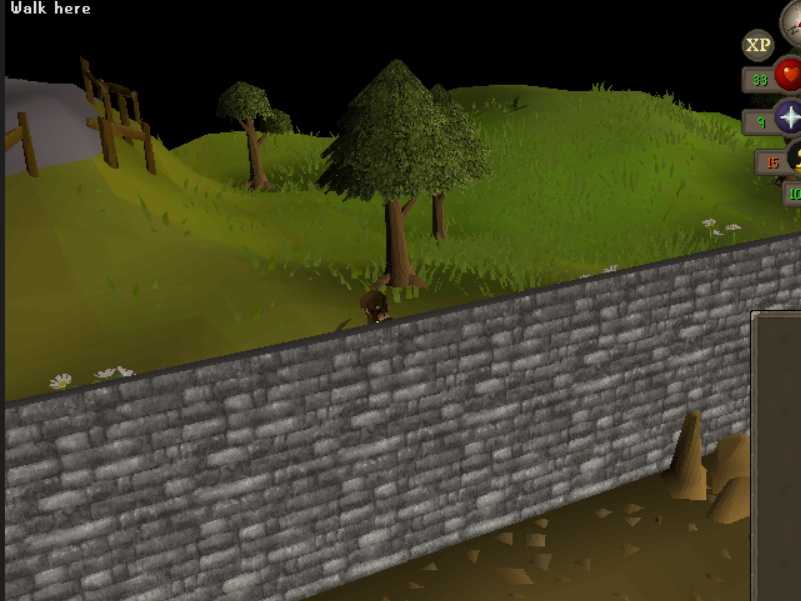clay: (661, 402, 754, 527)
